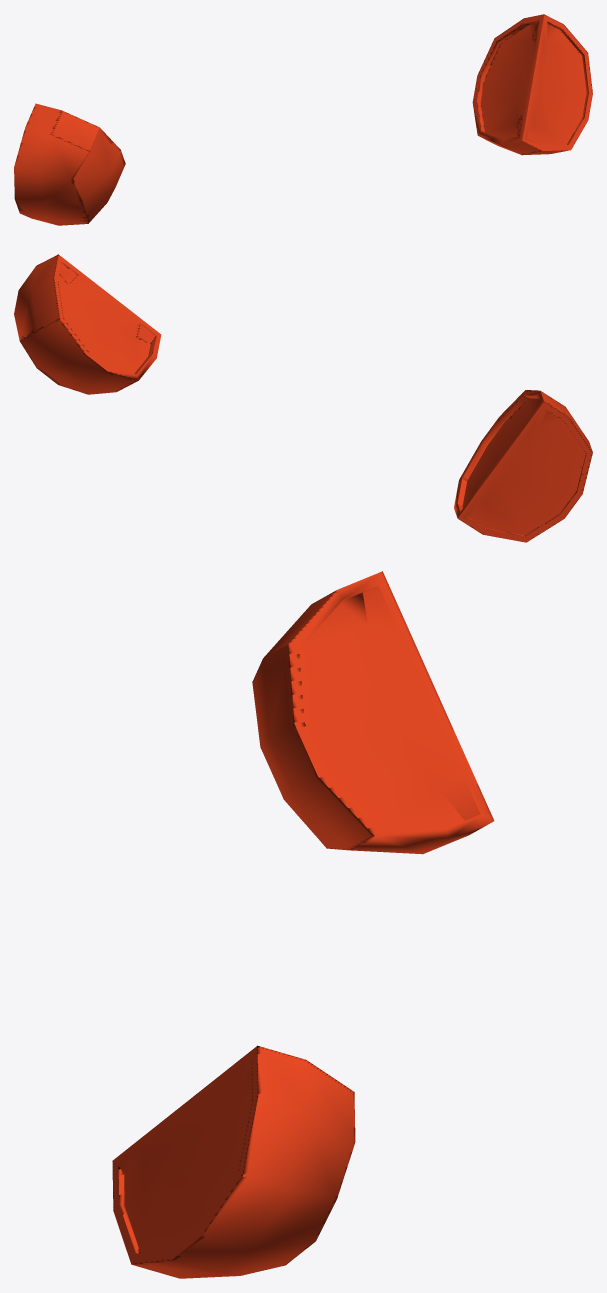
Rendered from gabus pucung.005.fbx.
3 renders of one model, top to bottom at view 1: azimuth 30°, elevation 25°; view 2: azimuth 150°, elevation 25°; view 3: azimuth 270°, elevation 25°, orthographic. The views are drawn at different scales.
Parts seen in each view (by area): view 1: gabus pucung.005_Baked; view 2: gabus pucung.005_Baked; view 3: gabus pucung.005_Baked.
Boxes of the visible parts, left/top/right/bottom form: gabus pucung.005_Baked: left=14, top=14, right=592, bottom=225; gabus pucung.005_Baked: left=14, top=254, right=592, bottom=542; gabus pucung.005_Baked: left=112, top=571, right=494, bottom=1278.
Size of the model in its own units: 148 by 33.48 by 44.32.
1 material, 1 textured.
